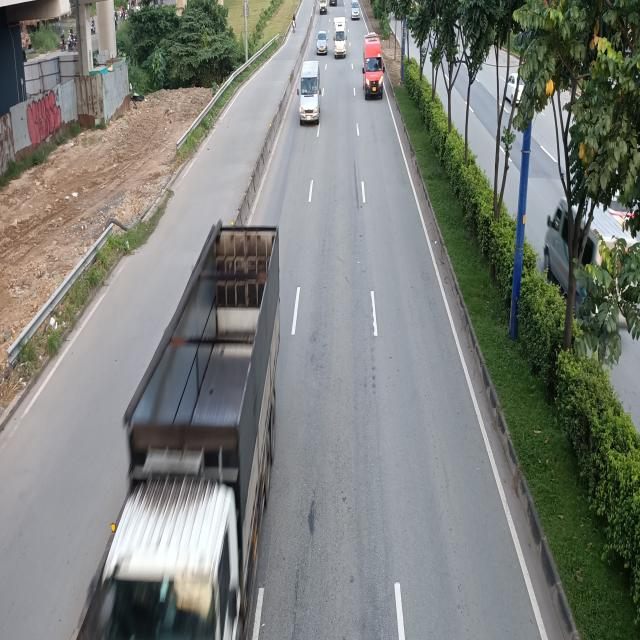car: (316, 31, 328, 55), (351, 1, 361, 20)
truck: (97, 221, 280, 640), (332, 16, 347, 58)
van: (298, 61, 322, 126), (361, 34, 384, 101)
